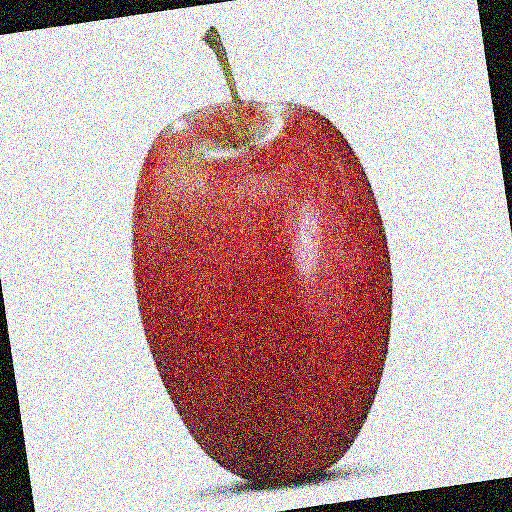fruit: (288, 110, 491, 502)
